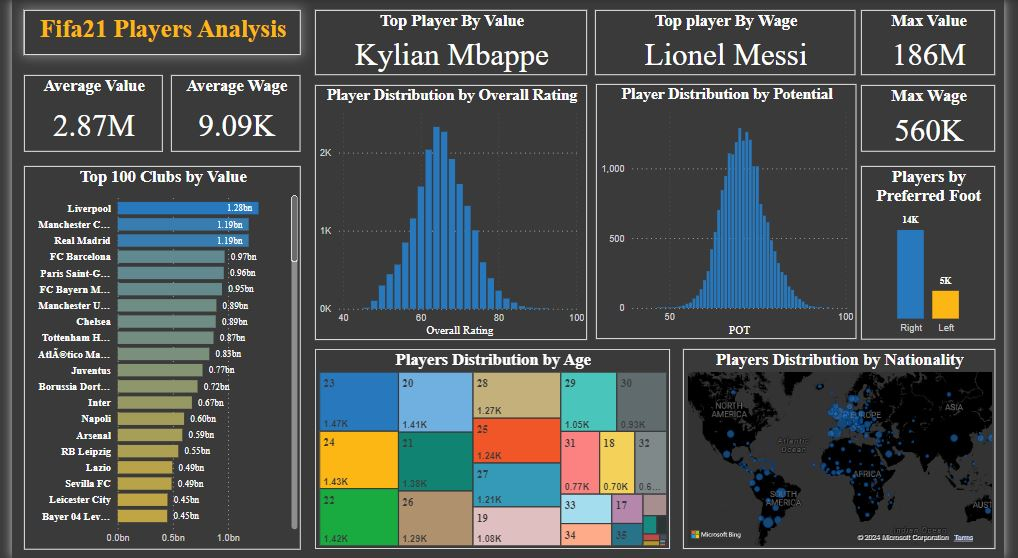

Layout of this report page (visuals, bound fields, positions):
{"tool":"powerbi","page":{"name":"Summary","canvas":[1280,720],"ordinal":0},"visuals":[{"type":"map","title":"Players Distribution by Nationality","fields":{"Category":["fifa21 raw data v2.Nationality"],"Size":["fifa21 raw data v2.ID"]},"box":[866,450.7,402.5,258],"z":0},{"type":"textbox","box":[15.6,12.8,357.2,58.1],"z":1000},{"type":"clusteredBarChart","title":"Top 100 Clubs by Value","fields":{"Category":["fifa21 raw data v2.Club"],"Y":["fifa21 raw data v2.Value"]},"box":[15.6,214,357.2,494.6],"z":2000},{"type":"card","title":"Average Value","fields":{"Values":["fifa21 raw data v2.Value"]},"box":[15.6,96.4,178.6,99.2],"z":3000},{"type":"card","title":"Average Wage","fields":{"Values":["fifa21 raw data v2.Wage"]},"box":[205.5,96.4,167.2,99.2],"z":4000},{"type":"treemap","title":"Players Distribution by Age","fields":{"Group":["fifa21 raw data v2.Age"],"Values":["fifa21 raw data v2.ID"]},"box":[391.2,450.7,457.8,258],"z":5000},{"type":"card","title":"Max Value","fields":{"Values":["fifa21 raw data v2.max value"]},"box":[1095.6,12.8,172.9,83.6],"z":6000},{"type":"card","title":"Top Player By Value","fields":{"Values":["fifa21 raw data v2.LongName"]},"box":[391.2,12.8,351.5,83.6],"z":7000},{"type":"card","title":"Top player By Wage","fields":{"Values":["fifa21 raw data v2.LongName"]},"box":[752.6,12.8,335.9,83.6],"z":8000},{"type":"card","title":"Max Wage","fields":{"Values":["fifa21 raw data v2.Max Wage"]},"box":[1095.6,109.1,172.9,86.5],"z":9000},{"type":"clusteredColumnChart","title":"Players by Preferred Foot","fields":{"Y":["fifa21 raw data v2.ID"],"Category":["fifa21 raw data v2.Preferred Foot"]},"box":[1095.6,214,172.9,223.9],"z":10000},{"type":"clusteredColumnChart","title":"Player Distribution by Overall Rating ","fields":{"Category":["fifa21 raw data v2.â†“OVA (bins)"],"Y":["fifa21 raw data v2.â†“OVA"]},"box":[391.2,109.1,351.5,328.8],"z":11000},{"type":"clusteredColumnChart","title":"Player Distribution by Potential","fields":{"Category":["fifa21 raw data v2.POT"],"Y":["fifa21 raw data v2.ID"]},"box":[753,109,336,329],"z":12000}]}

Visuals, with their boxes in screenshot pixels (x1, y1, x2, y2), scaled from the page's 1280x720 canvas onto the 1018x558 screenshot:
"Players Distribution by Nationality" map: (689, 349, 1009, 549)
textbox: (12, 10, 296, 55)
"Top 100 Clubs by Value" clusteredBarChart: (12, 166, 296, 549)
"Average Value" card: (12, 75, 154, 152)
"Average Wage" card: (163, 75, 296, 152)
"Players Distribution by Age" treemap: (311, 349, 675, 549)
"Max Value" card: (871, 10, 1009, 75)
"Top Player By Value" card: (311, 10, 591, 75)
"Top player By Wage" card: (599, 10, 866, 75)
"Max Wage" card: (871, 85, 1009, 152)
"Players by Preferred Foot" clusteredColumnChart: (871, 166, 1009, 339)
"Player Distribution by Overall Rating " clusteredColumnChart: (311, 85, 591, 339)
"Player Distribution by Potential" clusteredColumnChart: (599, 84, 866, 339)
